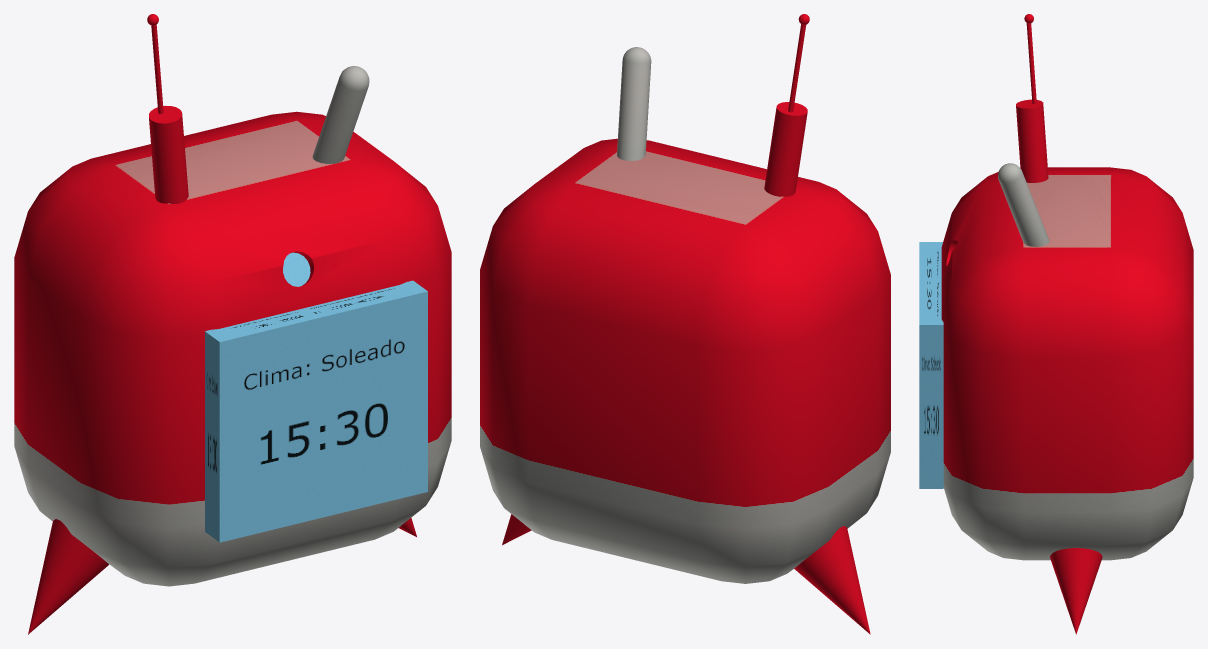
File: despertador.obj
The picture shows the model from 3 angles, left to right: view 1: azimuth 30°, elevation 25°; view 2: azimuth 150°, elevation 25°; view 3: azimuth 270°, elevation 25°; orthographic projection. The views are drawn at different scales.
Parts seen in each view (by area): view 1: ChamferBox001, Box001, Cone002, Cylinder003, Capsule001, Cylinder002; view 2: ChamferBox001, Cone002, Capsule001, Cylinder003; view 3: ChamferBox001, Box001, Cone001, Cylinder003, Capsule001, Cylinder004.
Part boxes in pixels (<box>): ChamferBox001: <box>14,111,451,586</box>; Box001: <box>205,280,427,542</box>; Cone002: <box>28,519,108,634</box>; Cylinder003: <box>149,105,188,203</box>; Capsule001: <box>312,66,369,163</box>; Cylinder002: <box>283,252,310,286</box>; ChamferBox001: <box>480,138,890,583</box>; Cone002: <box>794,526,870,634</box>; Capsule001: <box>617,47,651,160</box>; Cylinder003: <box>764,102,807,196</box>; ChamferBox001: <box>941,167,1193,560</box>; Box001: <box>919,242,943,488</box>; Cone001: <box>1050,548,1102,634</box>; Cylinder003: <box>1016,99,1048,182</box>; Capsule001: <box>998,163,1049,246</box>; Cylinder004: <box>1026,23,1036,103</box>.
Size of the model in its own units: 8.62 by 12.98 by 6.41.
Materials: 5 (5 with a texture image).
